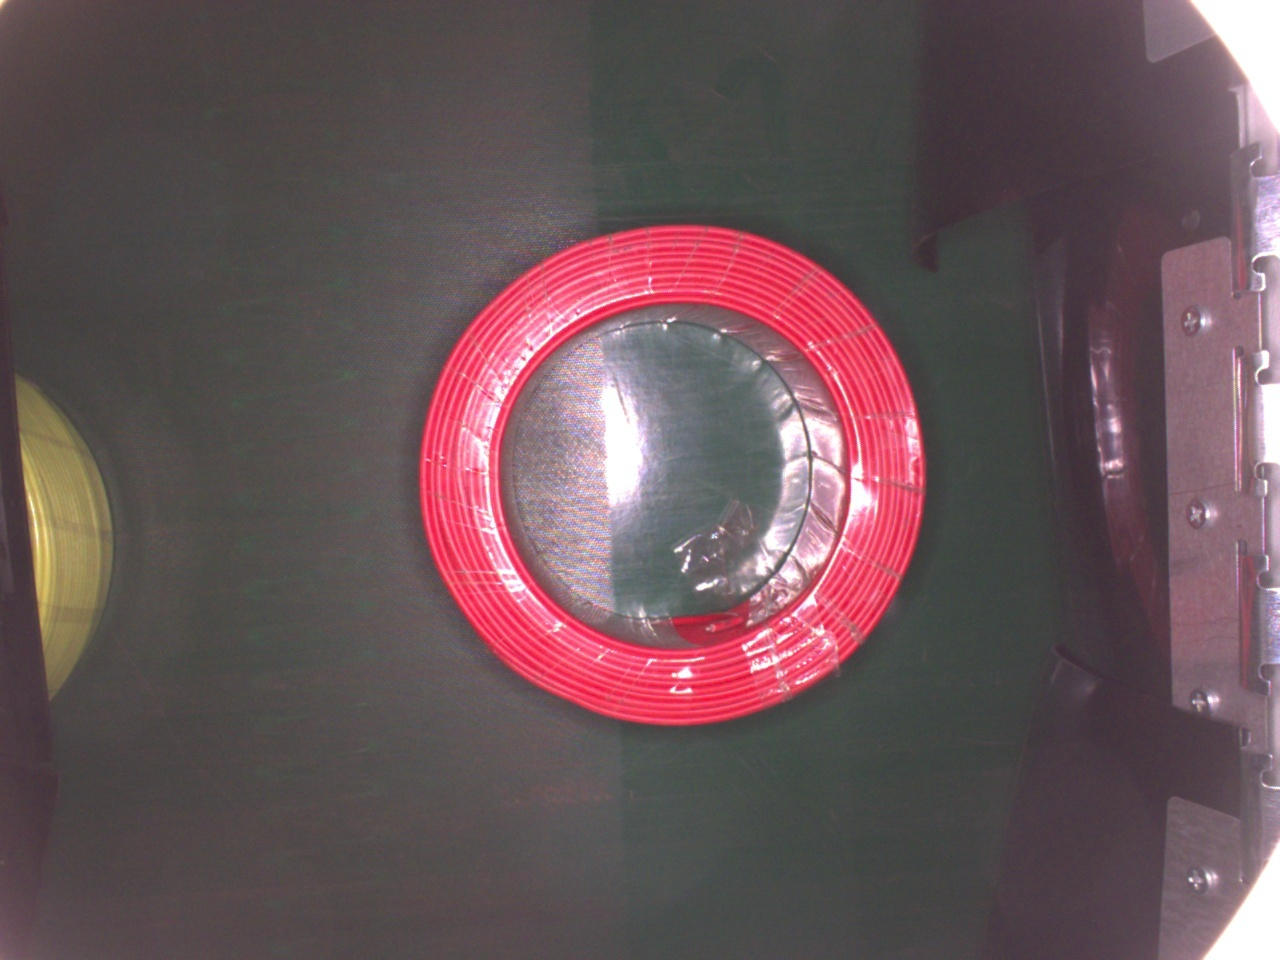red: (415, 218, 926, 730)
